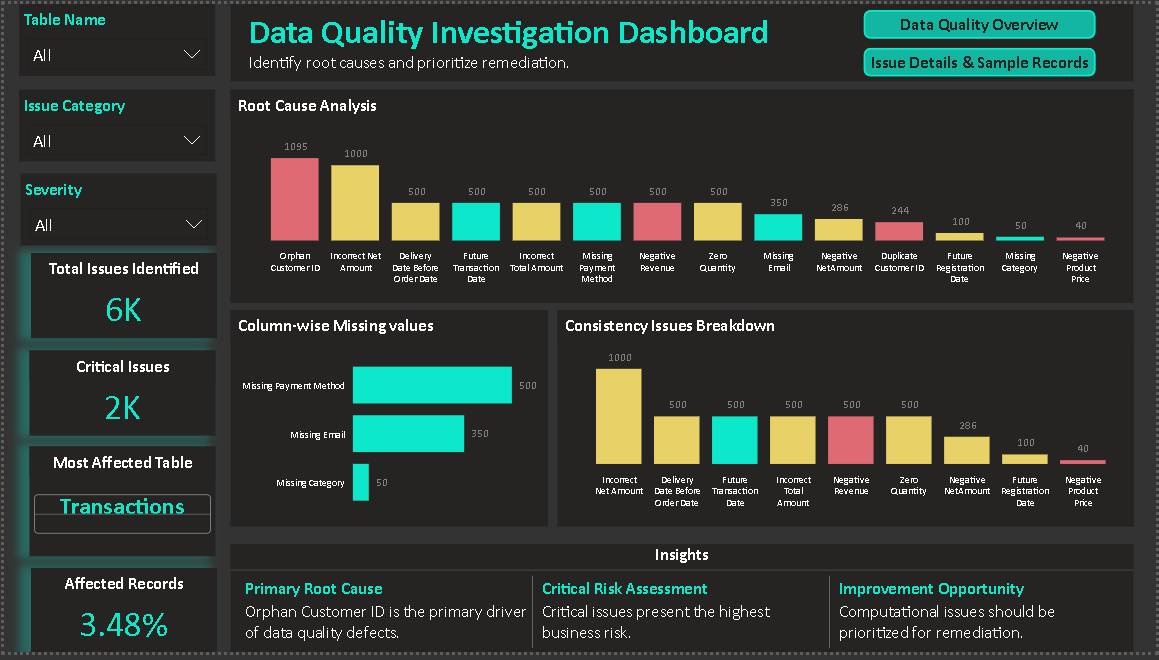

What the dashboard file says about the page in this screenshot:
{"tool":"powerbi","page":{"name":"Data Quality Investigation","canvas":[1280,720],"ordinal":1},"visuals":[{"type":"textbox","box":[252.1,0,1003.6,86.2],"z":0},{"type":"cardVisual","title":"Total Issues Identified","fields":{"Data":["public vw_issue_audit.Total Issues Identified"]},"box":[29.3,276.5,206.6,94.3],"z":1000},{"type":"cardVisual","title":"Critical Issues","fields":{"Data":["public vw_issue_audit.Critical Issues"]},"box":[27.7,385.5,206.6,94.3],"z":2000},{"type":"cardVisual","title":"Most Affected Table","fields":{"Rows":["public vw_issue_audit.tablename"]},"box":[27.7,491.2,206.6,122],"z":3000},{"type":"cardVisual","title":"Affected Records","fields":{"Data":["public vw_issue_audit.Affected Records %"]},"box":[29.3,626.2,206.6,94.3],"z":4000},{"type":"clusteredColumnChart","title":"Root Cause Analysis","fields":{"Category":["public vw_issue_audit.issuedescription"],"Y":["public vw_issue_audit.Issues Count"]},"box":[252.1,94.3,1003.6,237.5],"z":5000},{"type":"clusteredBarChart","title":"Column-wise Missing values","fields":{"Category":["public vw_issue_audit.issuedescription"],"Y":["public vw_issue_audit.Missing Issues"]},"box":[252.1,339.9,353,240.7],"z":6000},{"type":"clusteredColumnChart","title":"Consistency Issues Breakdown","fields":{"Category":["public vw_issue_audit.issuedescription"],"Y":["public vw_issue_audit.Consistency Issues"]},"box":[614.8,339.9,640.9,240.7],"z":7000},{"type":"slicer","title":"Table Name","fields":{"Values":["public vw_issue_audit.tablename"]},"box":[16.3,0,218,79.7],"z":8000},{"type":"slicer","title":"Issue Category","fields":{"Values":["public vw_issue_audit.issuecategory"]},"box":[16.3,94.3,218,79.7],"z":9000},{"type":"slicer","title":"Severity","fields":{"Values":["public vw_issue_audit.severity"]},"box":[17.9,188.7,218,79.7],"z":10000},{"type":"cardVisual","title":"Insights","fields":{"Data":["public vw_issue_audit.Primary Root Cause","public vw_issue_audit.Critical Risk Assessment","public vw_issue_audit.Improvement Opportunity"]},"box":[252.1,600.2,1003.6,120.4],"z":11000},{"type":"pageNavigator","box":[954.8,6.5,258.6,74.8],"z":12000}]}

Visuals, with their boxes in screenshot pixels (x1, y1, x2, y2), scaled from the page's 1280x720 canvas onto the 1159x660 screenshot:
textbox: x1=228, y1=0, x2=1137, y2=79
"Total Issues Identified" cardVisual: x1=27, y1=253, x2=214, y2=340
"Critical Issues" cardVisual: x1=25, y1=353, x2=212, y2=440
"Most Affected Table" cardVisual: x1=25, y1=450, x2=212, y2=562
"Affected Records" cardVisual: x1=27, y1=574, x2=214, y2=659
"Root Cause Analysis" clusteredColumnChart: x1=228, y1=86, x2=1137, y2=304
"Column-wise Missing values" clusteredBarChart: x1=228, y1=312, x2=548, y2=532
"Consistency Issues Breakdown" clusteredColumnChart: x1=557, y1=312, x2=1137, y2=532
"Table Name" slicer: x1=15, y1=0, x2=212, y2=73
"Issue Category" slicer: x1=15, y1=86, x2=212, y2=160
"Severity" slicer: x1=16, y1=173, x2=214, y2=246
"Insights" cardVisual: x1=228, y1=550, x2=1137, y2=659
pageNavigator: x1=865, y1=6, x2=1099, y2=75
